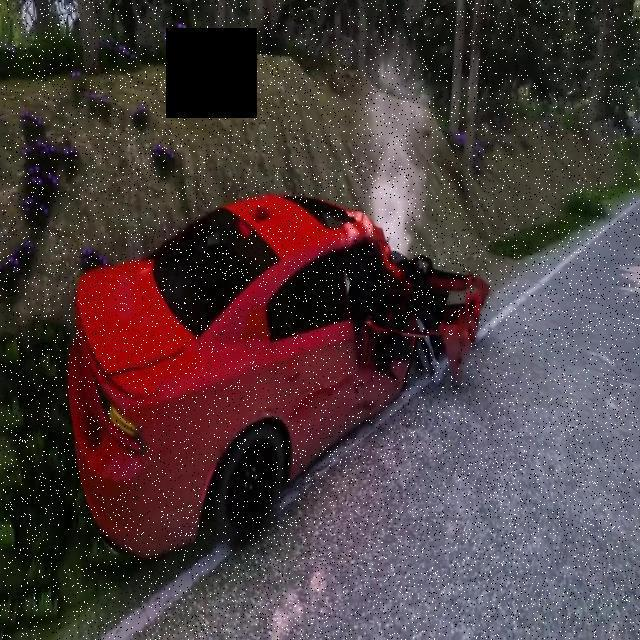vehicle: (47, 172, 550, 580)
